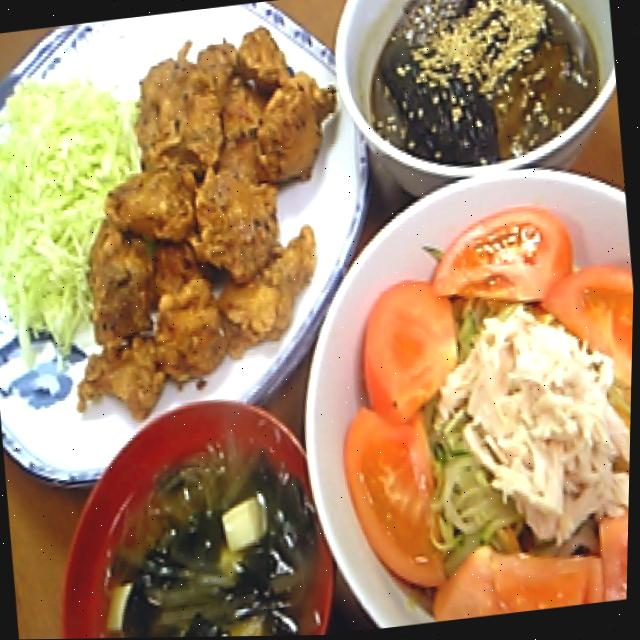鸡肉料理 含炸鸡: (6, 0, 388, 461)
